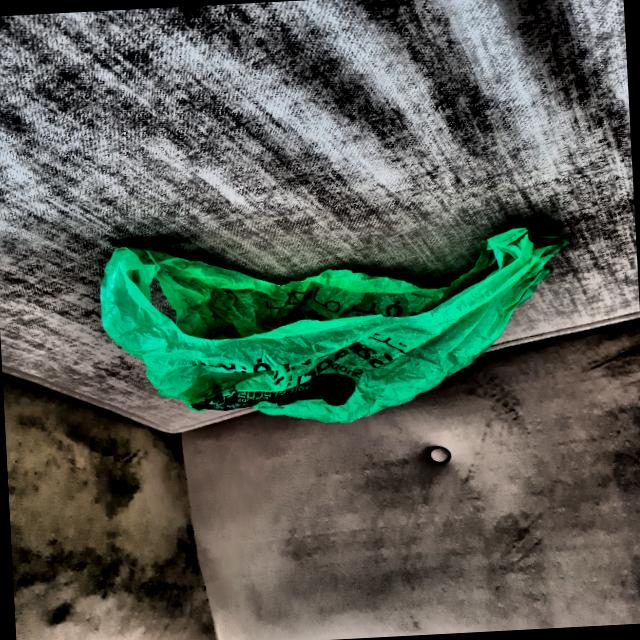plastic bag: (82, 202, 590, 453)
